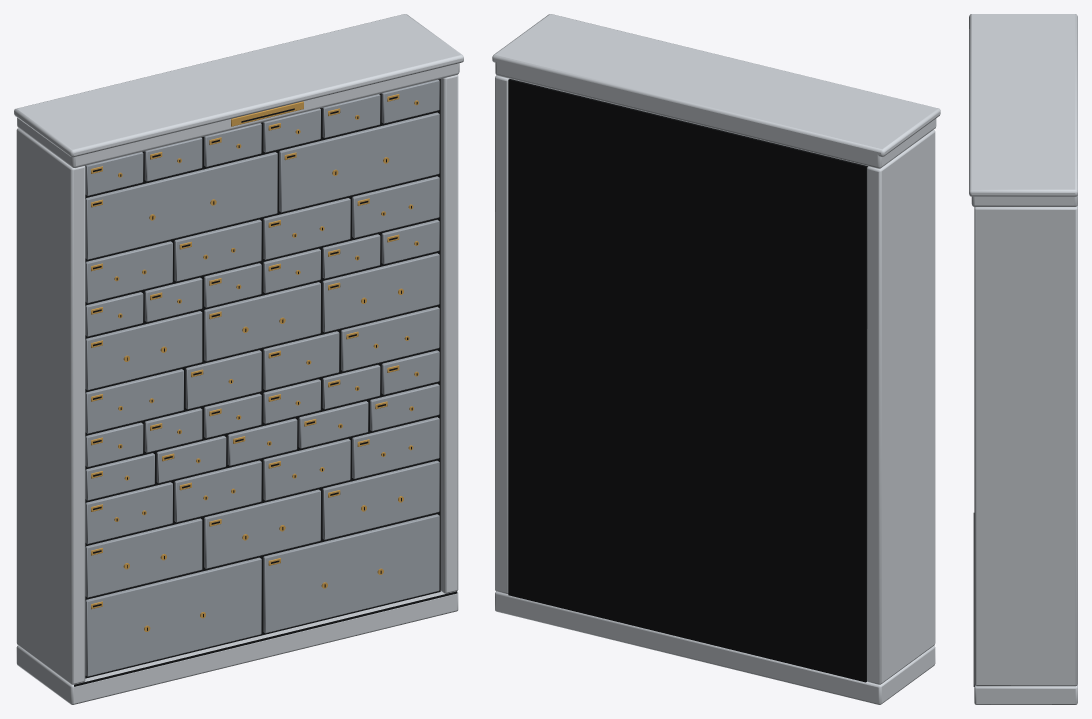
Rendered from deposit.glb.
3 views of the same model, side by side, from view 1: azimuth 30°, elevation 25°; view 2: azimuth 150°, elevation 25°; view 3: azimuth 270°, elevation 25° (orthographic). The views are drawn at different scales.
Parts seen in each view (by area): view 1: deposit_dep_door, deposit_dep_steel, deposit_dep_dark, deposit_dep_brass; view 2: deposit_dep_dark, deposit_dep_steel; view 3: deposit_dep_steel, deposit_dep_dark.
Boxes of the visible parts, x1,y1,x2,y2 form: deposit_dep_door: [85, 79, 439, 676]; deposit_dep_steel: [14, 14, 463, 704]; deposit_dep_dark: [74, 79, 457, 686]; deposit_dep_brass: [91, 94, 418, 631]; deposit_dep_dark: [508, 79, 867, 682]; deposit_dep_steel: [492, 14, 940, 704]; deposit_dep_steel: [969, 14, 1077, 704]; deposit_dep_dark: [973, 513, 974, 686].
Bounding box in the file's own units: 1.62 × 2.2 × 0.42.
